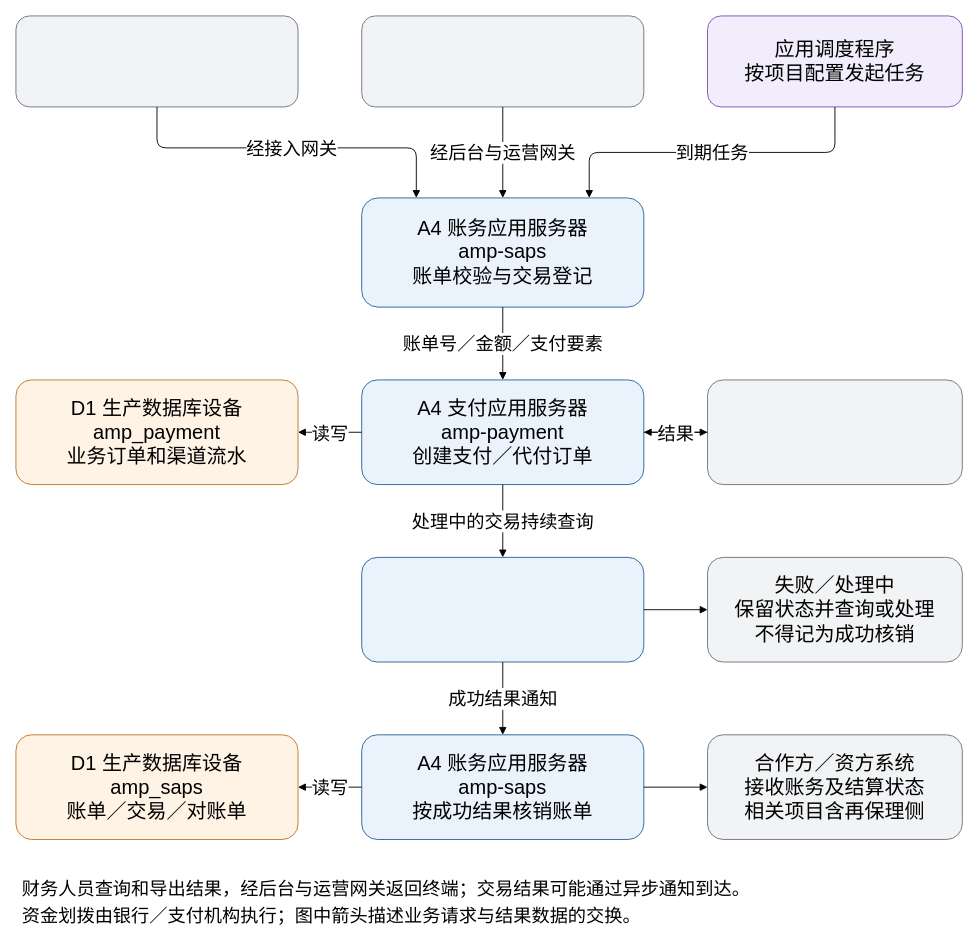
The diagram is 978 pixels wide and 943 high, and some of its shapes have lost their labels. The shapes that lost their labels are listed below. From the top down, each one's centre as x and y in pixels, then its label:
the point at 156,61: 客户／合作方终端 还款申请及账单查询
the point at 502,61: 财务人员终端 结算／对账／重新付款
the point at 834,432: 外部支付渠道服务器 银行／支付机构 受理并处理交易
the point at 502,609: A4 支付应用服务器 接收回调或查询结果 更新渠道和业务状态
